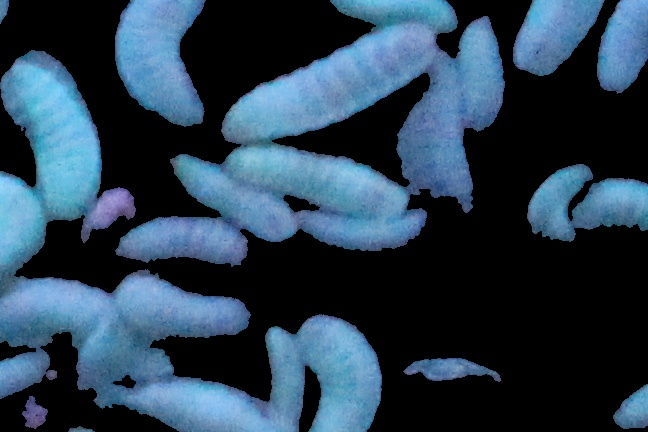larvae: (233, 24, 429, 141), (1, 64, 102, 218), (224, 146, 410, 220), (113, 1, 210, 128), (401, 57, 473, 213), (171, 156, 299, 241), (300, 311, 384, 432), (120, 270, 252, 345), (1, 279, 118, 346), (452, 22, 520, 132), (135, 379, 270, 432), (512, 1, 602, 78), (114, 219, 254, 264), (258, 326, 311, 432), (295, 211, 427, 252), (1, 172, 53, 276), (526, 166, 593, 245), (595, 1, 648, 90), (575, 176, 648, 240), (323, 1, 457, 25)
